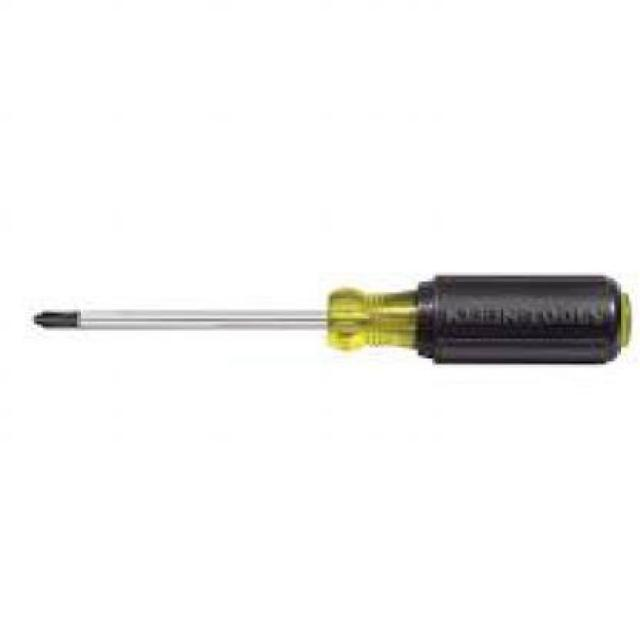screwdriver: (34, 270, 634, 367)
